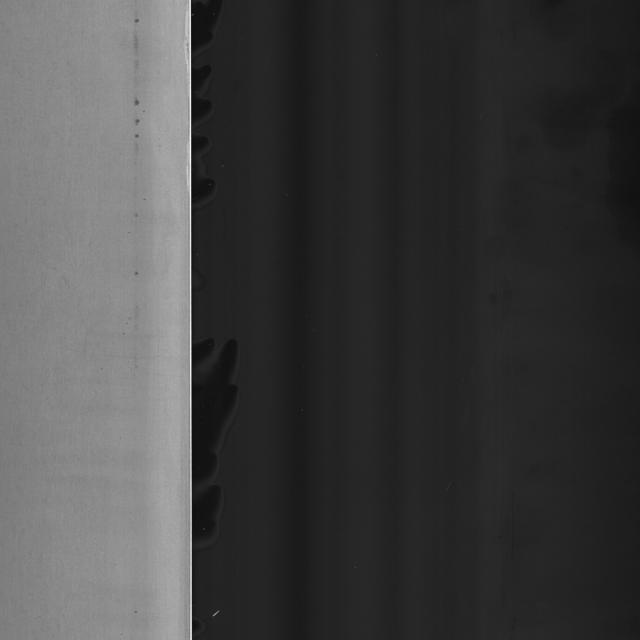welding_line: (127, 13, 143, 228)
